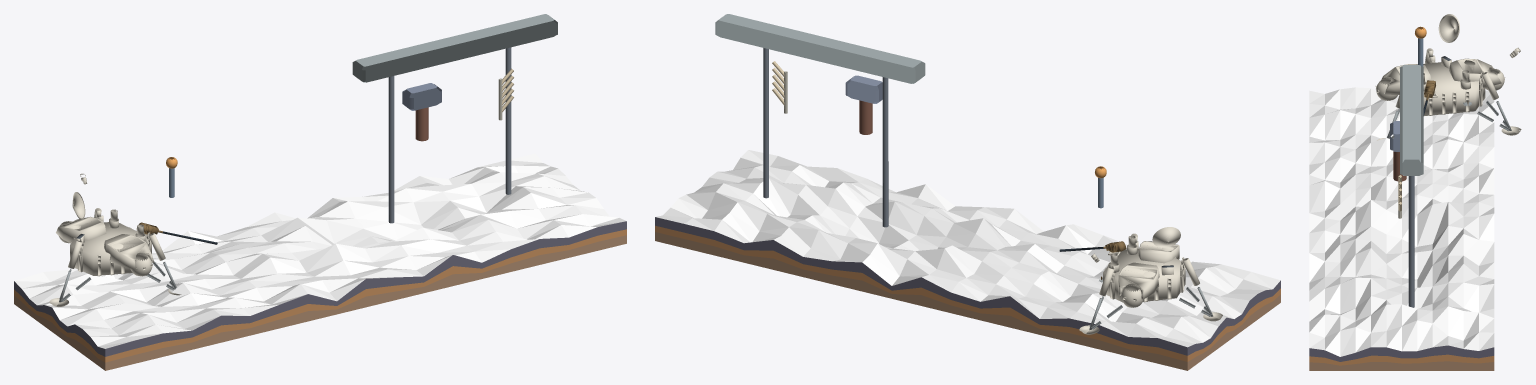
The model's file is apolo-caida.obj.
3 renders of one model, left to right at view 1: azimuth 30°, elevation 25°; view 2: azimuth 150°, elevation 25°; view 3: azimuth 270°, elevation 25°, orthographic. The views are drawn at different scales.
Parts seen in each view (by area): view 1: apolo-caida; view 2: apolo-caida; view 3: apolo-caida.
Part boxes in pixels (x1,y1,x2,y2): apolo-caida: (14, 14, 626, 370); apolo-caida: (655, 14, 1280, 370); apolo-caida: (1309, 14, 1521, 370).
Size of the model in its own units: 1.65 by 0.5925 by 0.5734.
